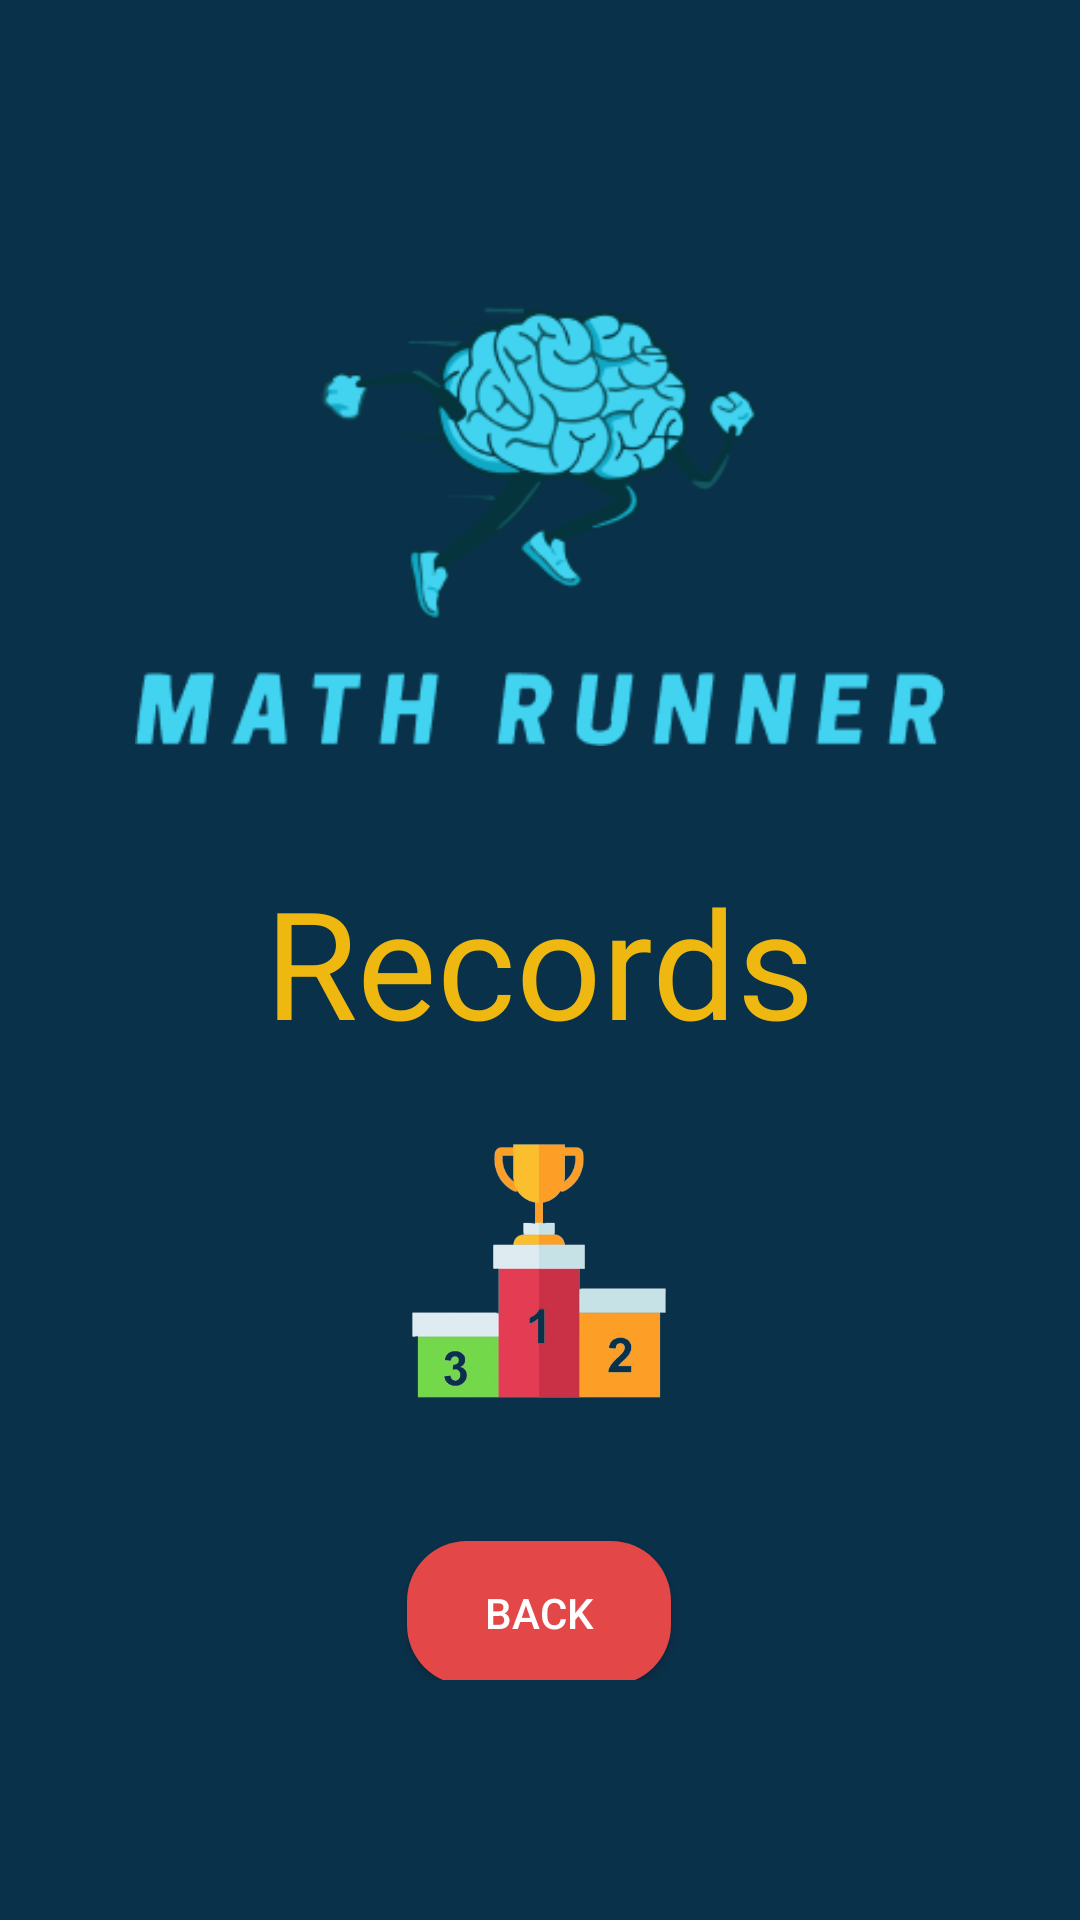

Icon bounding boxes for this 1080 × 1920 phone screenshot, format (x1, y1, x2, y2):
podio: (412, 1144, 666, 1398)
